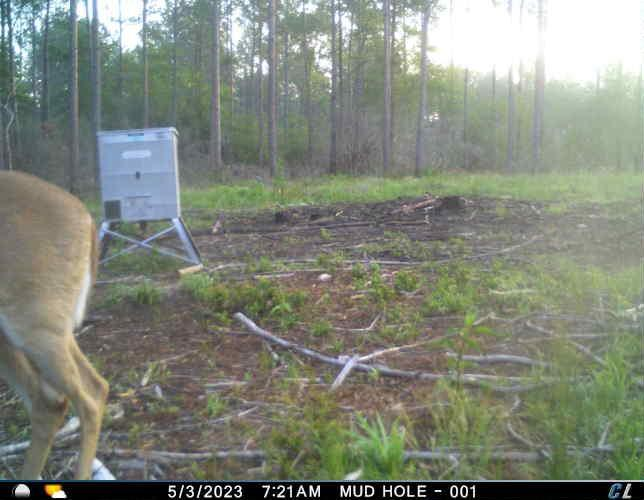Deer: (0, 166, 114, 481)
